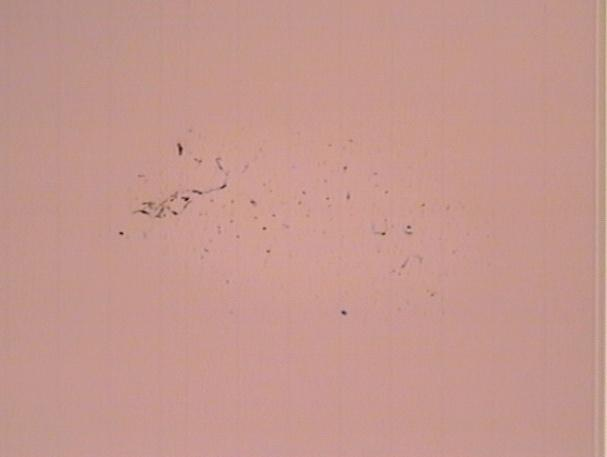PO CONTAMINATION: (109, 125, 468, 321)
